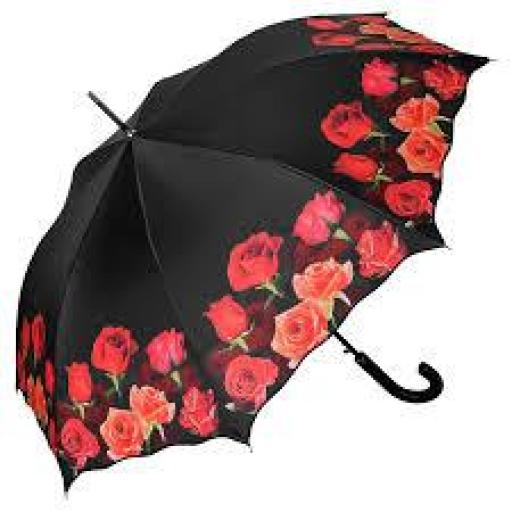guarda_chuva: (14, 9, 496, 494)
